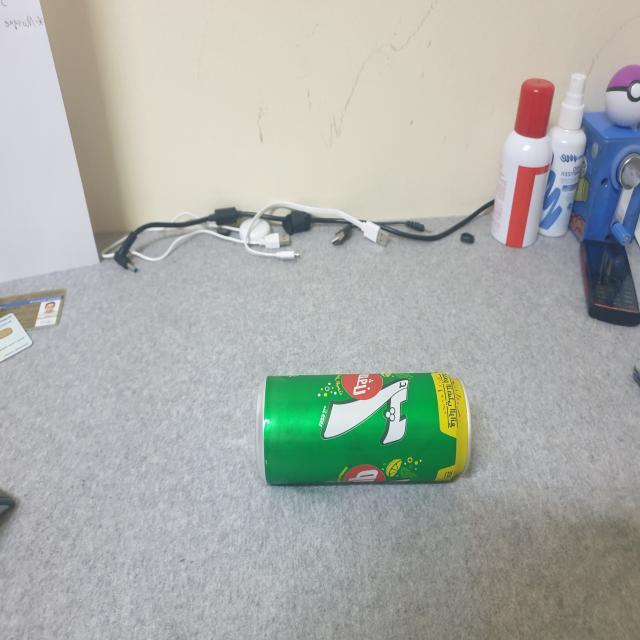can: (250, 352, 476, 518)
